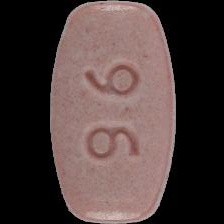50268-089: (0, 0, 224, 224)
